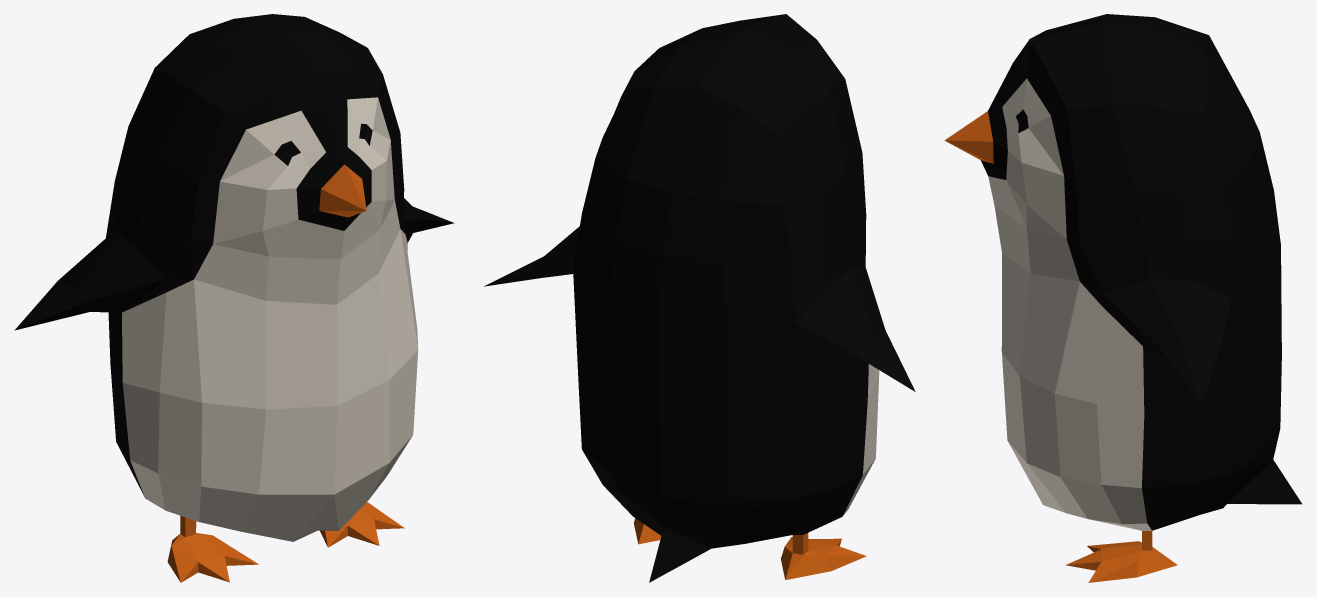
Rendered from Origami_Penguin.obj.
3 renders of one model, left to right at view 1: azimuth 30°, elevation 25°; view 2: azimuth 150°, elevation 25°; view 3: azimuth 270°, elevation 25°, orthographic. The views are drawn at different scales.
Visible parts, largest first — view 1: Cube.002_Cube; view 2: Cube.002_Cube; view 3: Cube.002_Cube.
Boxes of the visible parts, <box> form: Cube.002_Cube: <box>14,14,454,582</box>; Cube.002_Cube: <box>484,14,915,582</box>; Cube.002_Cube: <box>944,14,1301,582</box>.
Size of the model in its own units: 2.2 by 2.48 by 1.59.
